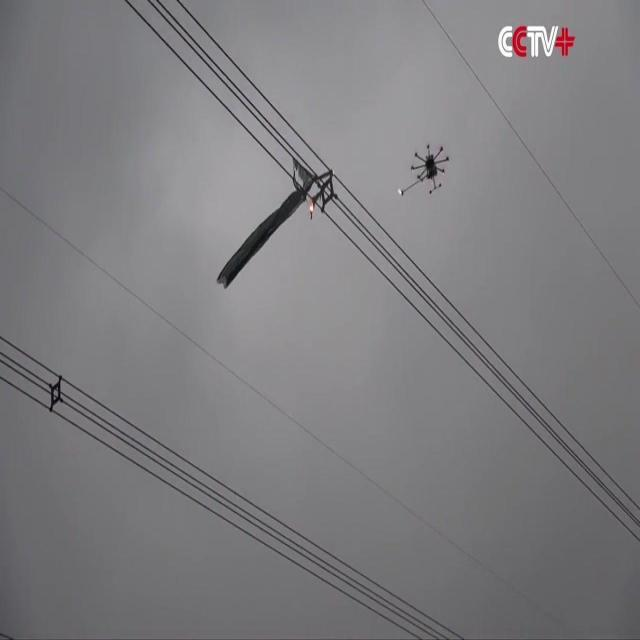drone: (409, 140, 454, 195)
